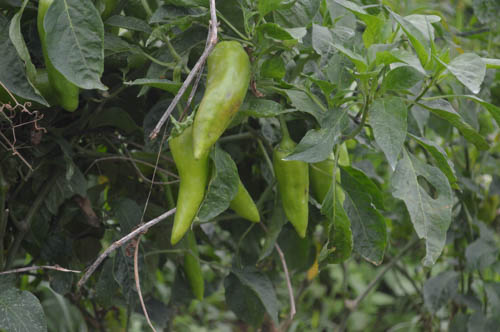ChiliPepper: (193, 41, 248, 158), (166, 126, 210, 246), (36, 7, 77, 109), (270, 146, 308, 232), (222, 157, 258, 222), (316, 153, 340, 210)
